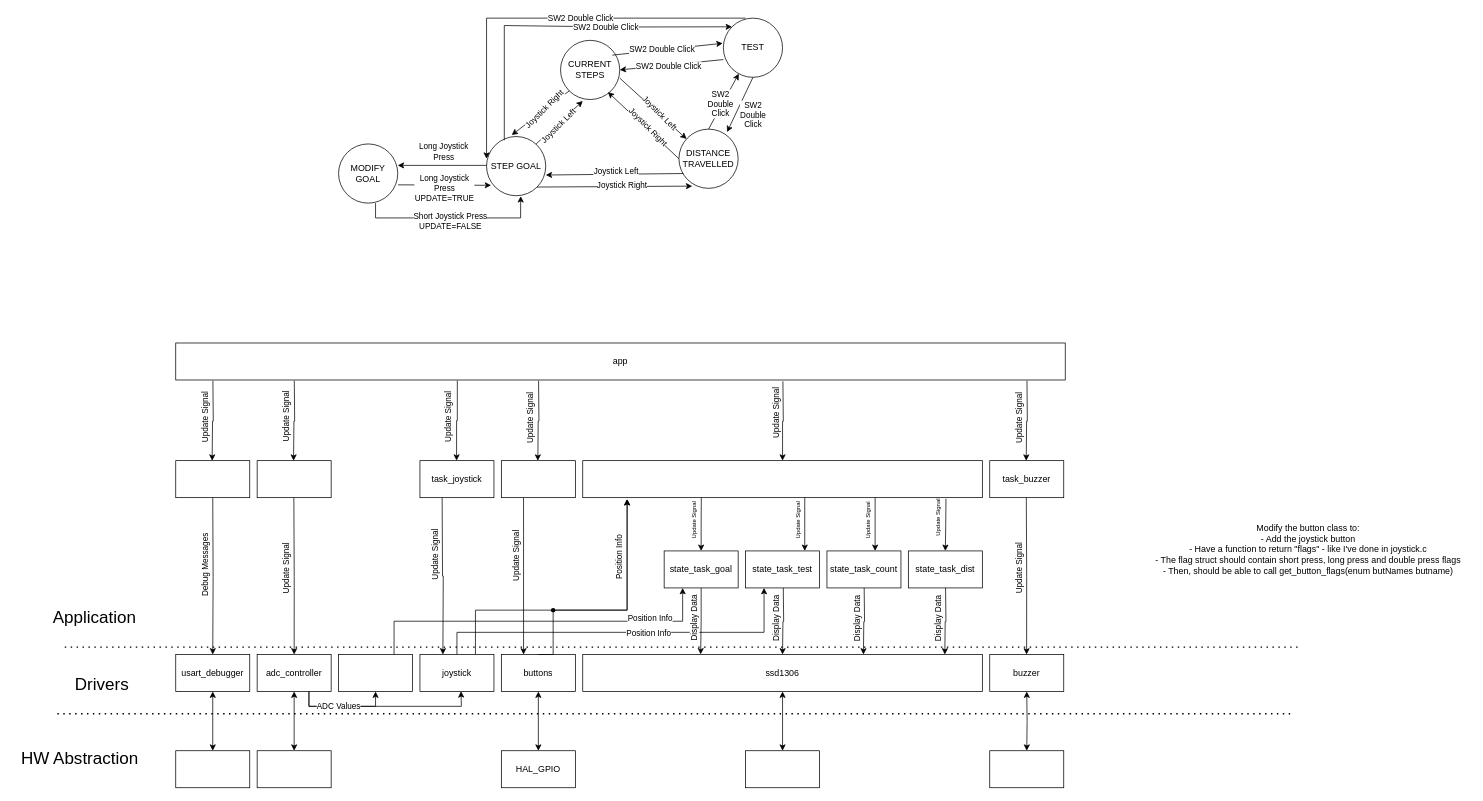
Some shapes in this 1483 by 801 pixel diagram are drawn without their labels. The box of each missing label's shape, as (x1, y1, x2, y2) in pixels:
ADC: (256, 750, 331, 788)
HAL_TIM: (989, 750, 1064, 788)
i2c: (745, 750, 820, 788)
pot: (338, 654, 413, 692)
task _usart: (175, 460, 250, 498)
task_adc: (256, 460, 331, 498)
task_buttons: (501, 460, 575, 498)
task_display_fsm: (582, 460, 982, 498)
usart: (175, 750, 250, 788)
